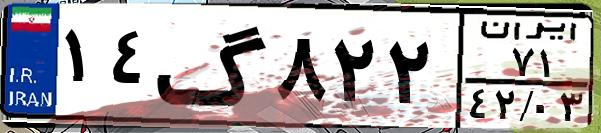0: (535, 70, 560, 125)
1: (57, 26, 110, 100), (537, 27, 568, 80)
2: (385, 28, 445, 110), (330, 28, 385, 110), (495, 70, 520, 125)
3: (560, 70, 590, 125)
4: (110, 28, 156, 98), (470, 70, 495, 125)
7: (508, 27, 537, 80)
8: (270, 28, 330, 110)
گ: (156, 12, 270, 120)
